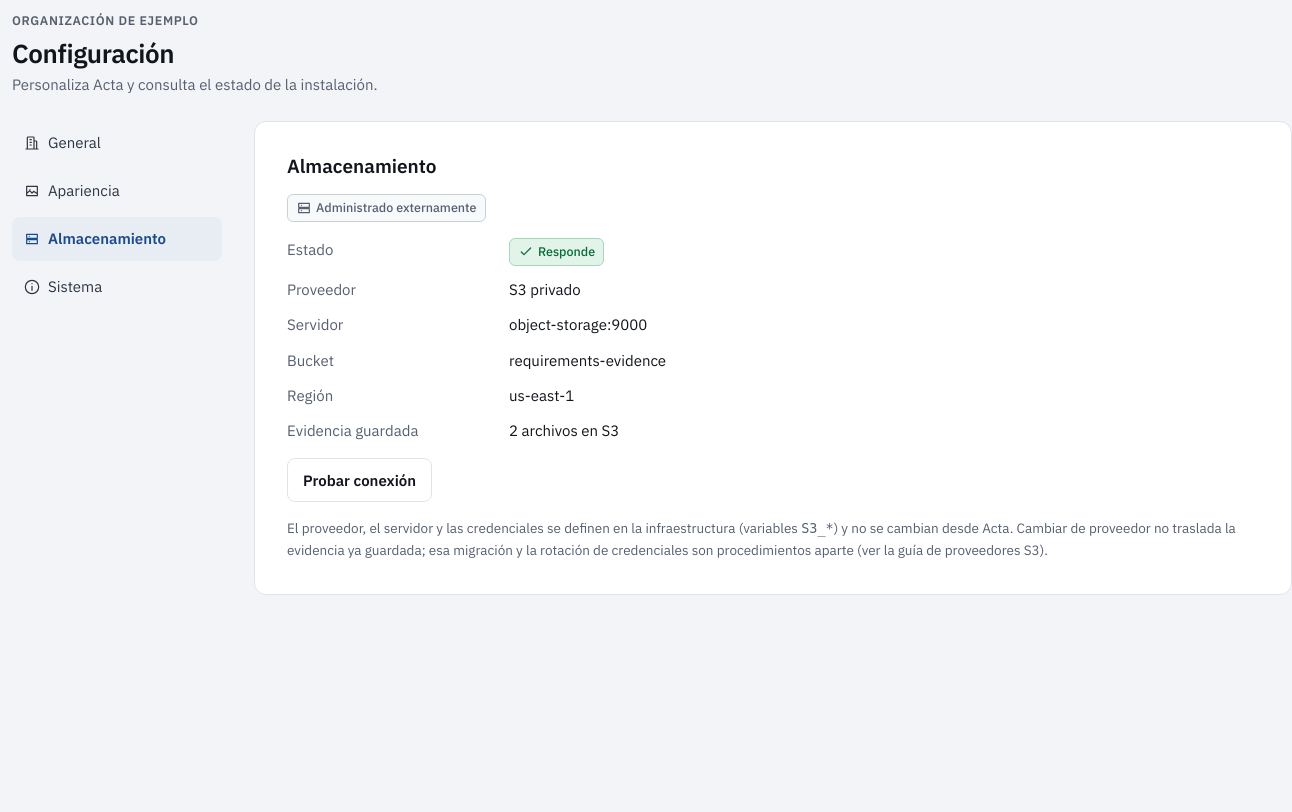
Test case: almacenamiento muestra el estado, no ofrece cambiarlo y permite probar la conexión
Expected: the text "object-storage:9000" is shown, top-left (509, 315), bottom-right (647, 334)
Expected: the text "requirements-evidence" is shown, top-left (509, 351), bottom-right (666, 370)
Step 1. Click the button "Probar conexión" → (360, 480), box top-left (287, 458), bottom-right (432, 502)
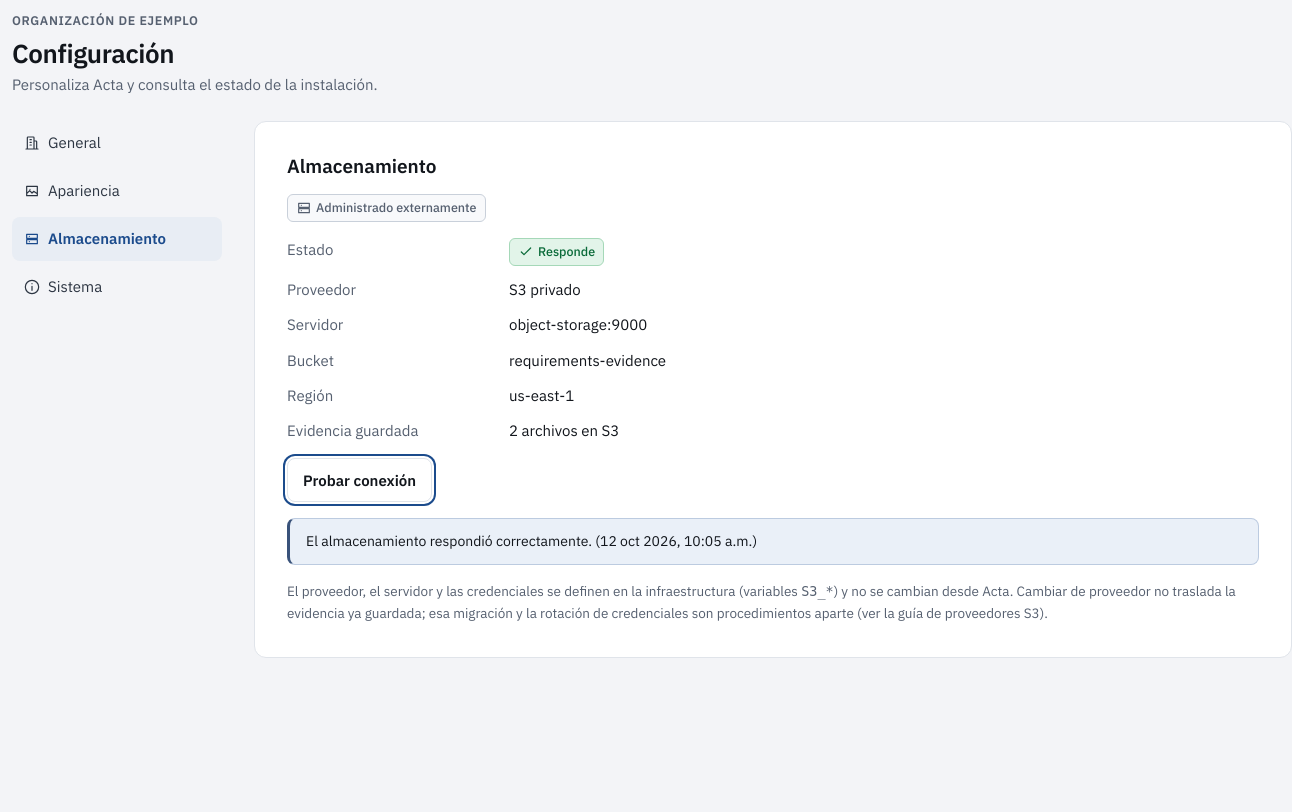
Expected: the text "El almacenamiento respondió correctamente. (12 oct 2026, 10:05 a.m.)" is shown, top-left (287, 518), bottom-right (1259, 565)
